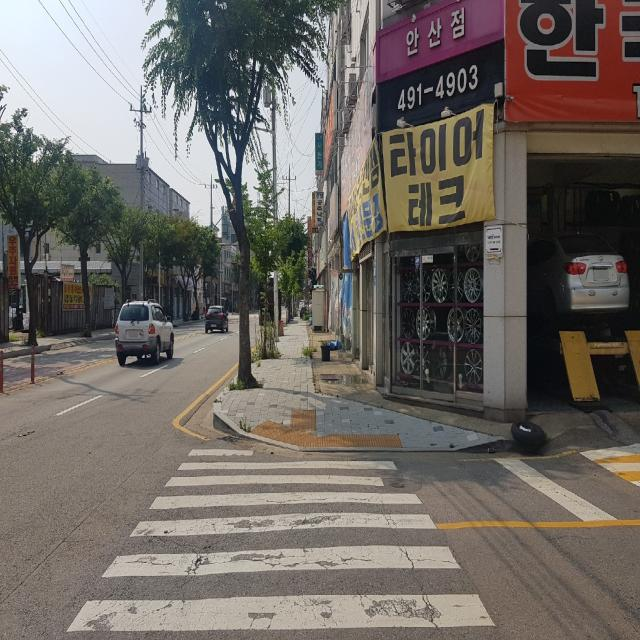횡단보도: (65, 445, 498, 640)
